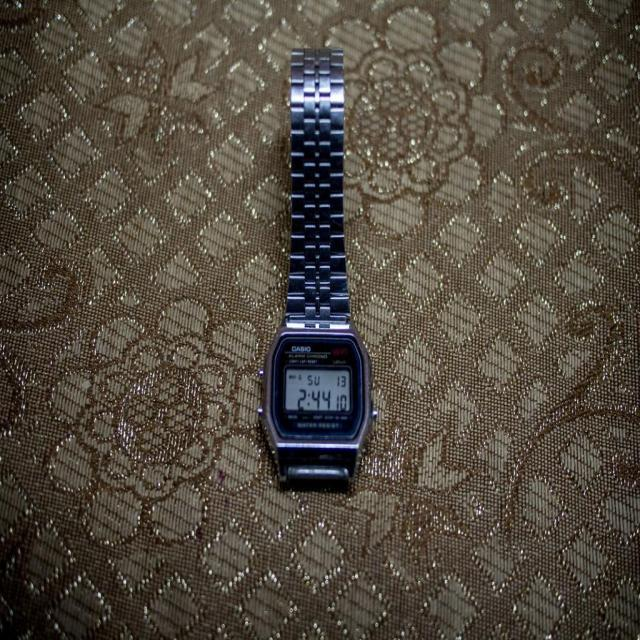Wrist watch: (266, 49, 375, 489)
